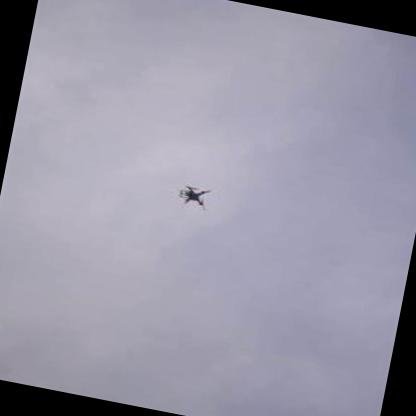plane: (170, 179, 218, 211)
